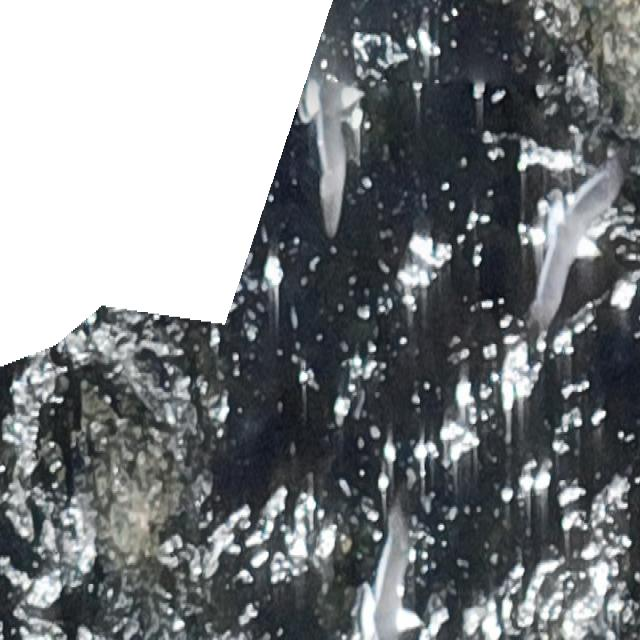F: (534, 167, 618, 312), (306, 39, 359, 207), (366, 498, 418, 636)
